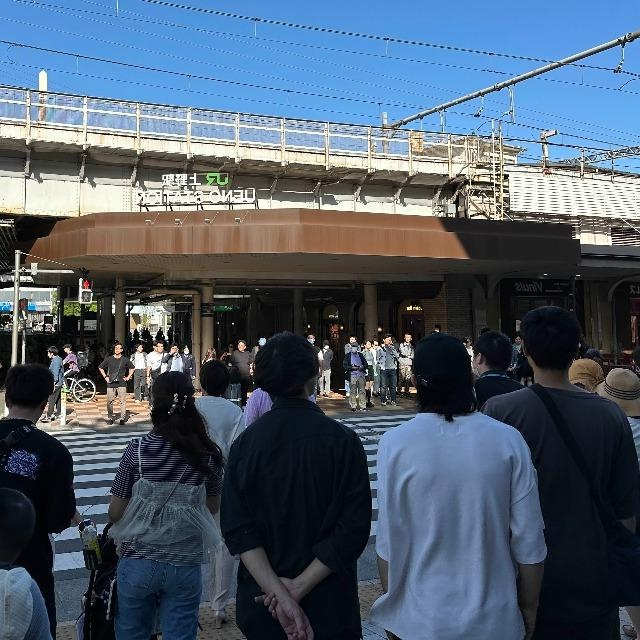Sin_Casco_Mascarrilla: (251, 331, 320, 400), (518, 305, 584, 374), (3, 362, 53, 418)
Sin_Chaleco: (377, 411, 526, 631), (226, 405, 362, 602), (117, 430, 223, 556)
